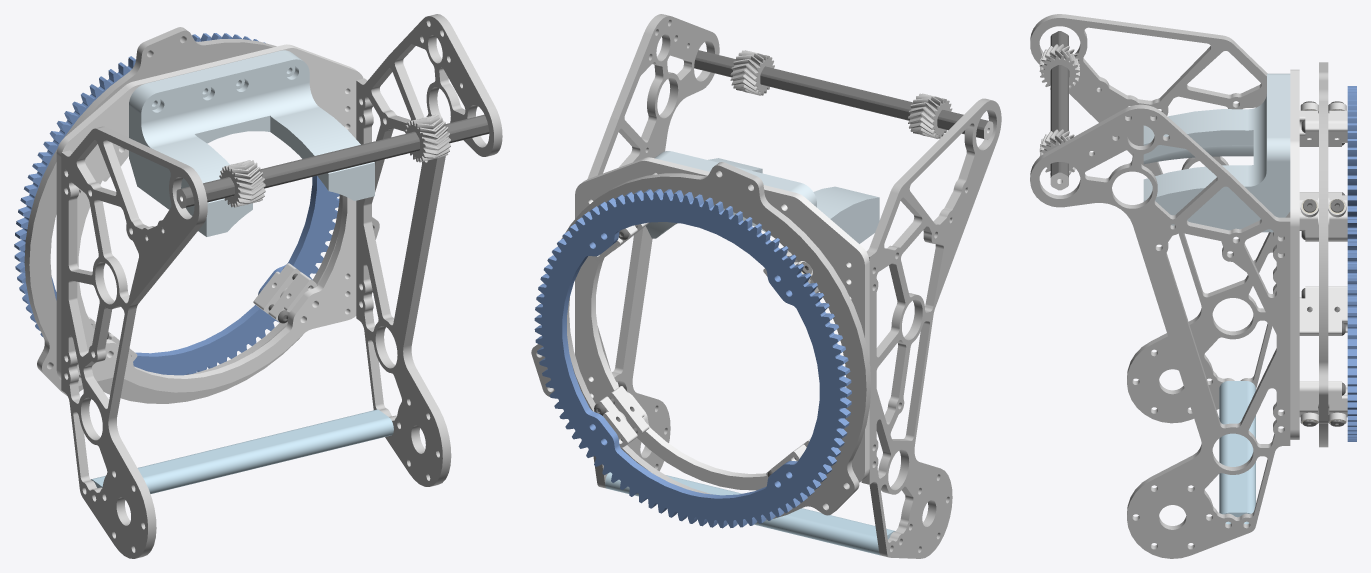
Rendered from Turret_Transformed.glb.
The picture shows the model from 3 angles, left to right: view 1: azimuth 30°, elevation 25°; view 2: azimuth 150°, elevation 25°; view 3: azimuth 270°, elevation 25°; orthographic projection. The views are drawn at different scales.
Visible parts, largest first — view 1: right_plate, left_plate, Shooter_Base_Plate, Race_Ring, Part 23, Part 5, Spur_gear_(95 teeth), front_standoff, 1/2" Rounded Hex (9.125"L 13.75mm OD), Spur gear (20 teeth), WCP-1458-001 Rev2_1; view 2: Spur_gear_(95 teeth), right_plate, Race_Ring, Shooter_Base_Plate, left_plate, 1/2" Rounded Hex (9.125"L 13.75mm OD), front_standoff, Part 23, Spur gear (20 teeth), WCP-1458-001 Rev2_1, Part 5; view 3: left_plate, right_plate, Part 5, WCP-1458-001 Rev2_1, Part 23, front_standoff, Race_Ring, Shooter_Base_Plate, Spur_gear_(95 teeth), 1/2" Rounded Hex (9.125"L 13.75mm OD), Spur gear (20 teeth), 0.25" ID Bearing (0.5" OD, 0.188" WD, Shielded)_3 (+1 smaller).
Boxes of the visible parts, x1,y1,x2,y2 form: right_plate: (61,126,207,558); left_plate: (356,14,502,486); Shooter_Base_Plate: (56,44,363,392); Race_Ring: (24,27,379,403); Part 23: (129,67,252,236); Part 5: (213,50,374,200); Spur_gear_(95 teeth): (14,33,339,375); front_standoff: (91,409,393,493); 1/2" Rounded Hex (9.125"L 13.75mm OD): (176,114,489,208); Spur gear (20 teeth): (219,114,450,207); WCP-1458-001 Rev2_1: (88,176,316,361); Spur_gear_(95 teeth): (534,189,851,528); right_plate: (861,98,1001,558); Race_Ring: (531,162,871,521); Shooter_Base_Plate: (575,157,869,490); left_plate: (587,14,719,488); 1/2" Rounded Hex (9.125"L 13.75mm OD): (694,50,993,139); front_standoff: (605,472,895,555); Part 23: (724,167,879,243); Spur gear (20 teeth): (730,50,952,138); WCP-1458-001 Rev2_1: (592,222,819,476); Part 5: (646,151,762,238); left_plate: (1030,104,1290,558); right_plate: (1030,14,1290,423); Part 5: (1143,106,1290,232); WCP-1458-001 Rev2_1: (1299,110,1347,417); Part 23: (1143,73,1290,164); front_standoff: (1219,381,1255,524); Race_Ring: (1319,62,1328,447); Shooter_Base_Plate: (1290,69,1299,439); Spur_gear_(95 teeth): (1347,86,1356,441); 1/2" Rounded Hex (9.125"L 13.75mm OD): (1050,31,1068,190); Spur gear (20 teeth): (1039,44,1079,175); 0.25" ID Bearing (0.5" OD, 0.188" WD, Shielded)_3: (1300,102,1346,424).
Bounding box in the file's own units: 0.2642 × 0.3441 × 0.2262.
